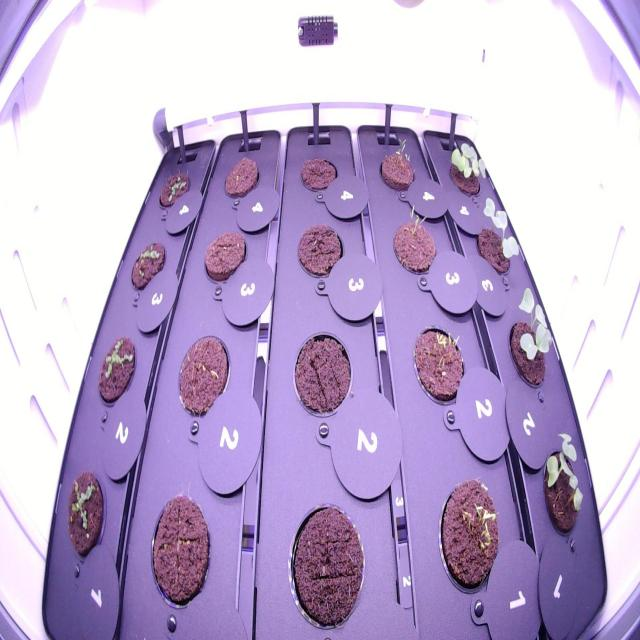germination: (432, 469, 503, 605), (409, 307, 468, 411), (539, 423, 589, 545), (505, 284, 557, 396), (469, 194, 524, 280), (62, 468, 107, 562), (391, 200, 440, 280), (96, 328, 139, 415), (443, 130, 492, 203), (126, 229, 167, 303), (376, 130, 419, 197), (156, 156, 192, 214)
pod: (283, 491, 370, 637), (143, 487, 214, 615), (288, 322, 356, 421), (174, 326, 232, 428), (201, 219, 250, 290), (294, 218, 346, 278), (296, 146, 343, 198), (222, 148, 262, 206)
